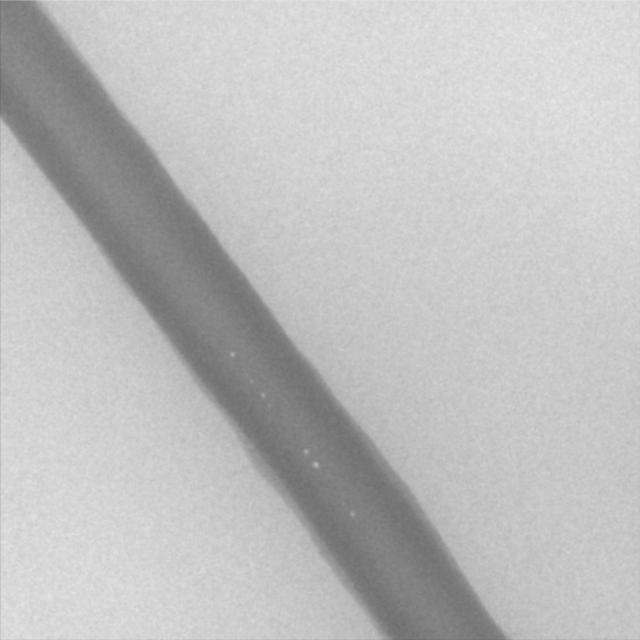air hole: (258, 390, 267, 400), (301, 446, 309, 457), (312, 460, 320, 470), (228, 350, 236, 359), (348, 509, 355, 519)
